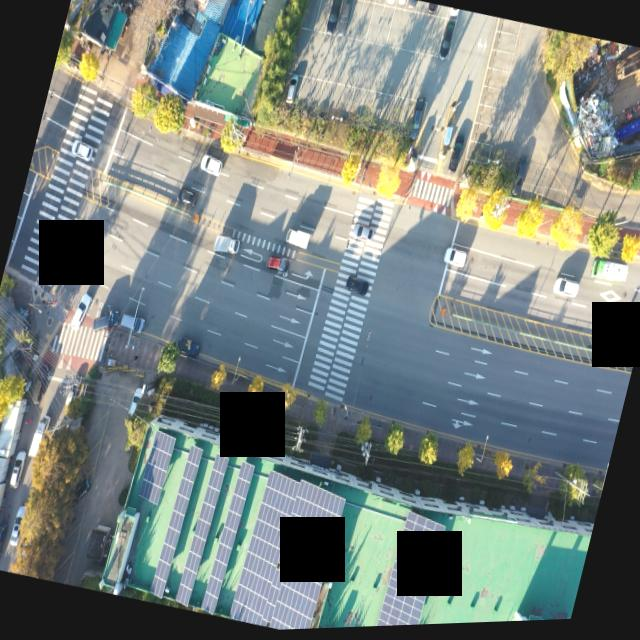car: (64, 468, 94, 508), (88, 303, 120, 339), (508, 156, 530, 200), (28, 363, 50, 407), (68, 291, 89, 331), (446, 136, 466, 176), (124, 383, 144, 423), (8, 503, 27, 545), (322, 0, 344, 36), (342, 274, 371, 299), (438, 25, 457, 63), (406, 98, 424, 138), (8, 447, 26, 486), (441, 247, 469, 271), (336, 0, 353, 38), (552, 279, 580, 302), (118, 310, 146, 333), (61, 375, 80, 408), (174, 185, 198, 211), (197, 154, 223, 177), (68, 138, 92, 160), (349, 225, 374, 244), (284, 74, 298, 105)
small_bus: (588, 260, 628, 289)
small_truck: (26, 411, 51, 458), (282, 225, 312, 252), (212, 233, 240, 257), (173, 336, 201, 359), (264, 253, 291, 275), (0, 519, 9, 568)
